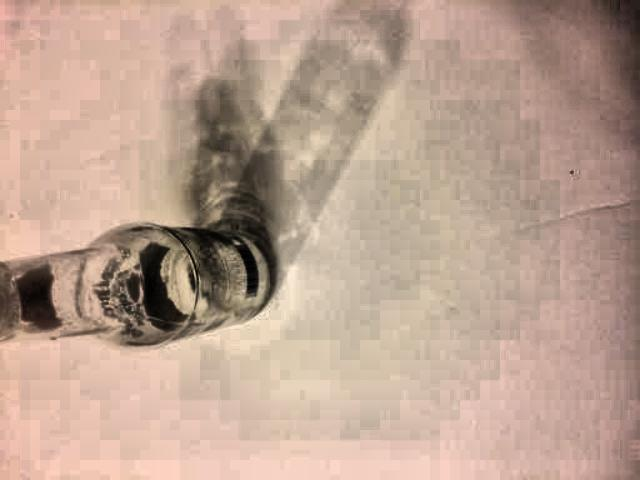Bottles: (0, 215, 295, 365)
